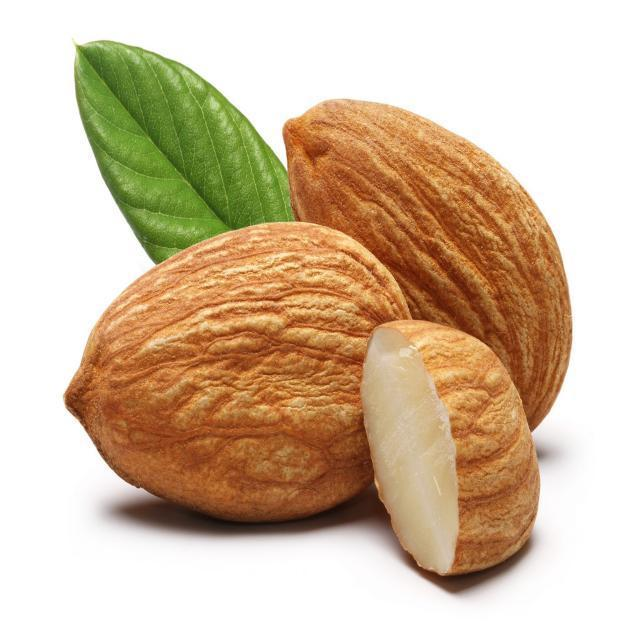almond: (64, 220, 419, 525), (283, 97, 572, 447)
